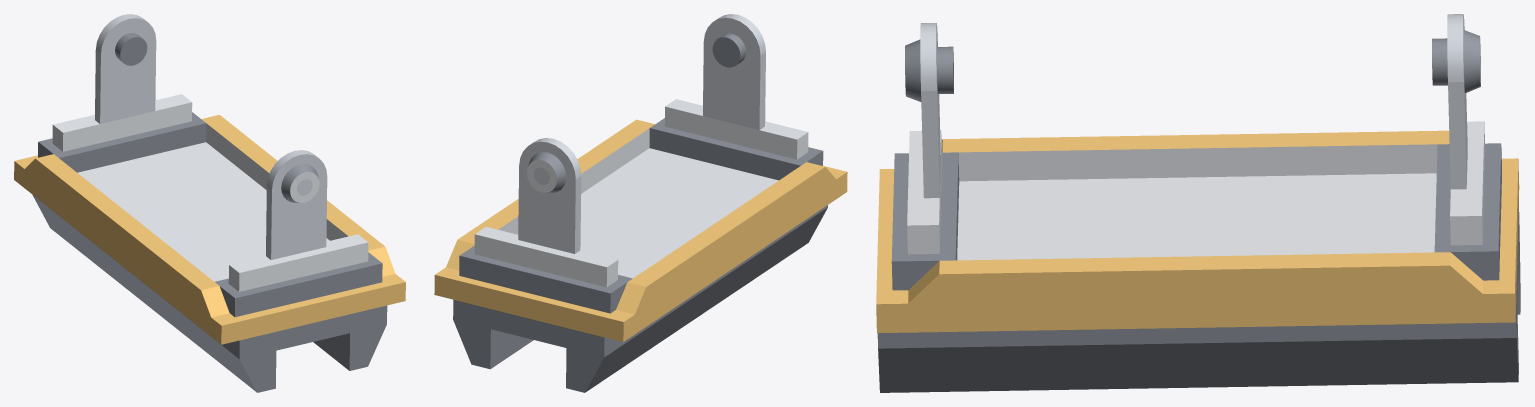
The model's file is monorail3.glb.
3 renders of one model, left to right at view 1: azimuth 30°, elevation 25°; view 2: azimuth 150°, elevation 25°; view 3: azimuth 270°, elevation 25°, orthographic. The views are drawn at different scales.
Visible parts, largest first — view 1: monorail_trainCargo; view 2: monorail_trainCargo; view 3: monorail_trainCargo.
Part boxes in pixels (x1,y1,x2,y2): monorail_trainCargo: [14, 14, 405, 392]; monorail_trainCargo: [434, 14, 847, 392]; monorail_trainCargo: [876, 14, 1520, 392].
Size of the model in its own units: 2.56 by 2.91 by 5.04.
